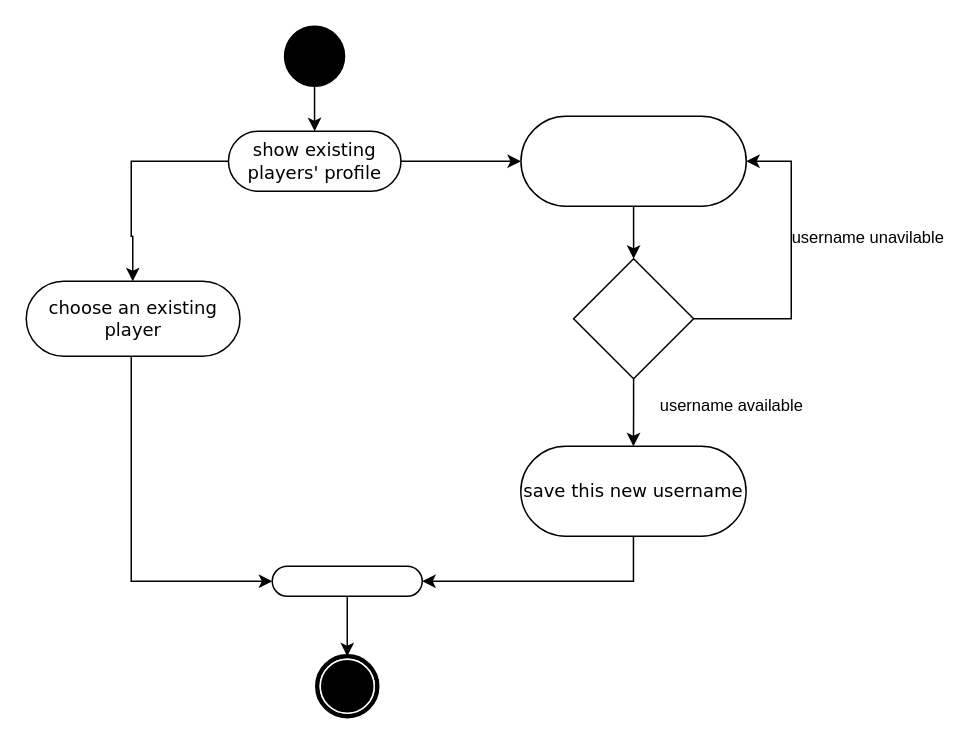
The diagram is 969 pixels wide and 743 high, and some of its shapes have lost their labels. The box of each missing label's shape, as (x1, y1, x2, y2) in pixels:
enter a new player's username: (519, 115, 746, 206)
main menu: (271, 565, 422, 596)
